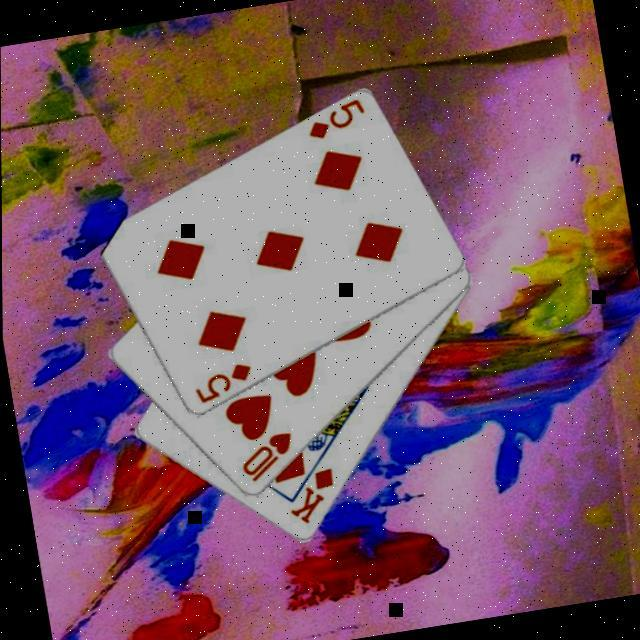10H: (233, 428, 300, 487)
5D: (188, 358, 258, 408), (301, 94, 371, 144)
KD: (280, 464, 344, 530)
